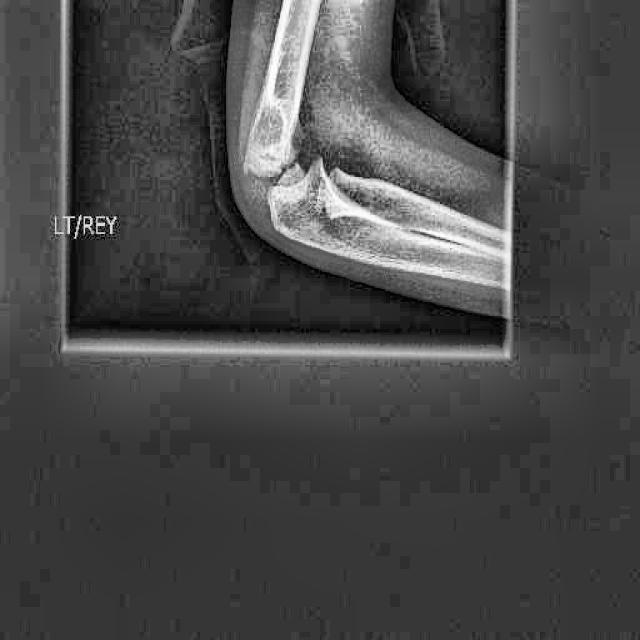elbow positive: (295, 141, 368, 243)
